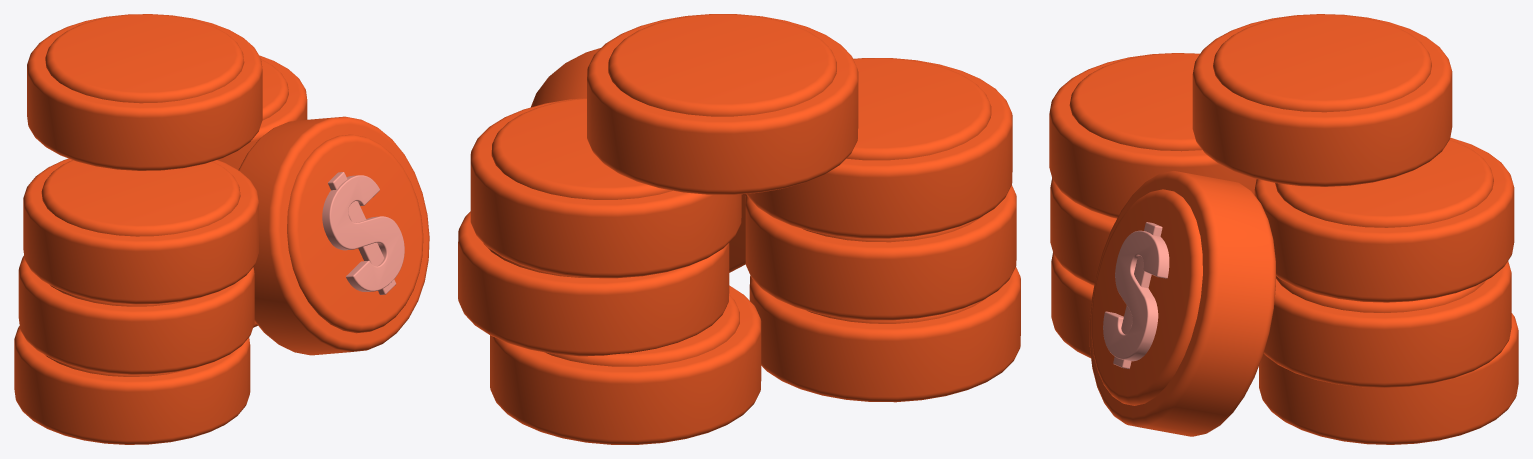
The model's file is Coins Stack.glb.
3 views of the same model, side by side, from view 1: azimuth 30°, elevation 25°; view 2: azimuth 150°, elevation 25°; view 3: azimuth 270°, elevation 25° (orthographic). The views are drawn at different scales.
Parts seen in each view (by area): view 1: Cylinder.017, Cylinder.021, Cylinder.022, Text.001, Cylinder.020; view 2: Cylinder.017, Cylinder.021, Cylinder.020, Cylinder.018, Cylinder.019, Cylinder.022; view 3: Cylinder.021, Cylinder.022, Cylinder.020, Cylinder.017, Cylinder.019, Cylinder.018, Text.001.
Part boxes in pixels (<box>): Cylinder.017: <box>14,158,258,444</box>; Cylinder.021: <box>27,14,262,170</box>; Cylinder.022: <box>238,116,429,355</box>; Text.001: <box>322,172,404,294</box>; Cylinder.020: <box>218,55,307,169</box>; Cylinder.017: <box>745,58,1020,402</box>; Cylinder.021: <box>587,14,858,194</box>; Cylinder.020: <box>470,98,741,278</box>; Cylinder.018: <box>490,285,761,444</box>; Cylinder.019: <box>458,211,729,356</box>; Cylinder.022: <box>531,48,745,272</box>; Cylinder.021: <box>1192,14,1452,186</box>; Cylinder.022: <box>1089,171,1275,436</box>; Cylinder.020: <box>1254,137,1514,302</box>; Cylinder.017: <box>1049,53,1256,358</box>; Cylinder.019: <box>1263,261,1511,387</box>; Cylinder.018: <box>1259,313,1518,444</box>; Text.001: <box>1103,222,1169,368</box>.
Bounding box in the file's own units: 4.23 × 2.79 × 3.87.
